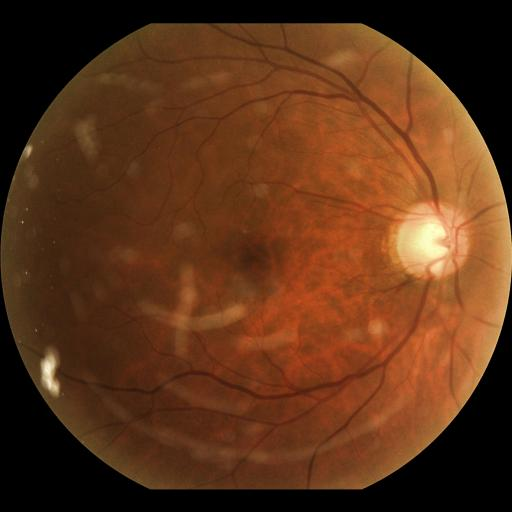Optic Cup: (415, 222, 451, 259)
Optic Disc: (395, 203, 470, 279)
